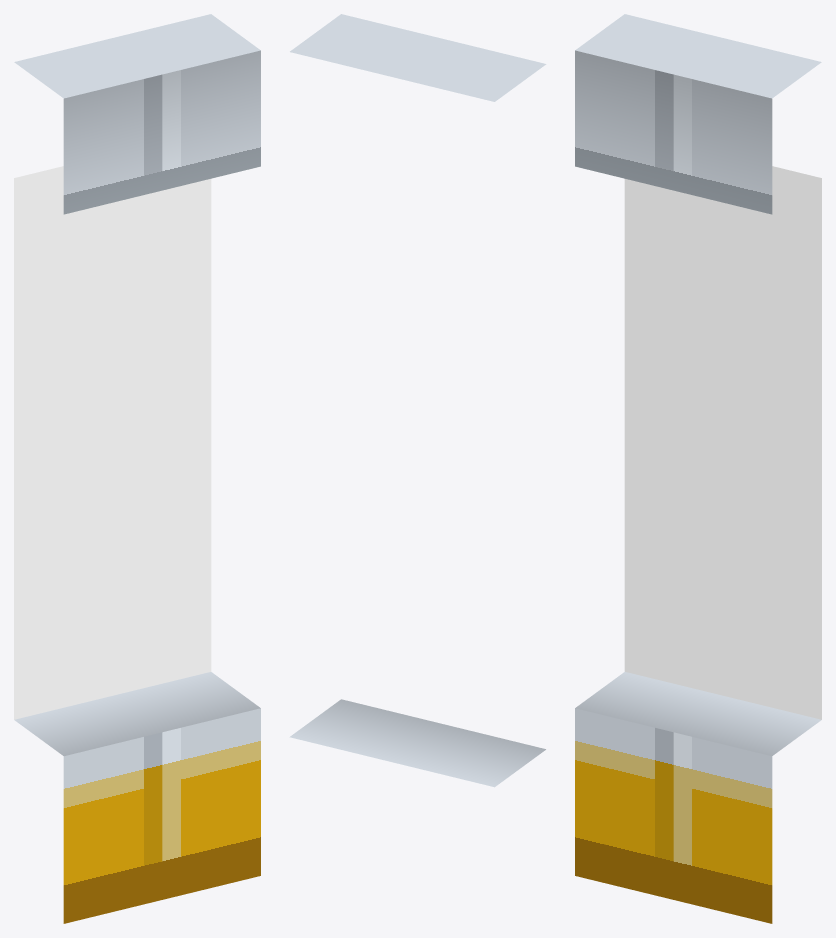
3 renders of one model, left to right at view 1: azimuth 30°, elevation 25°; view 2: azimuth 150°, elevation 25°; view 3: azimuth 330°, elevation 25°, orthographic. The views are drawn at different scales.
Size of the model in its own units: 1 by 4 by 0.4375.
2 materials, 2 textured.
